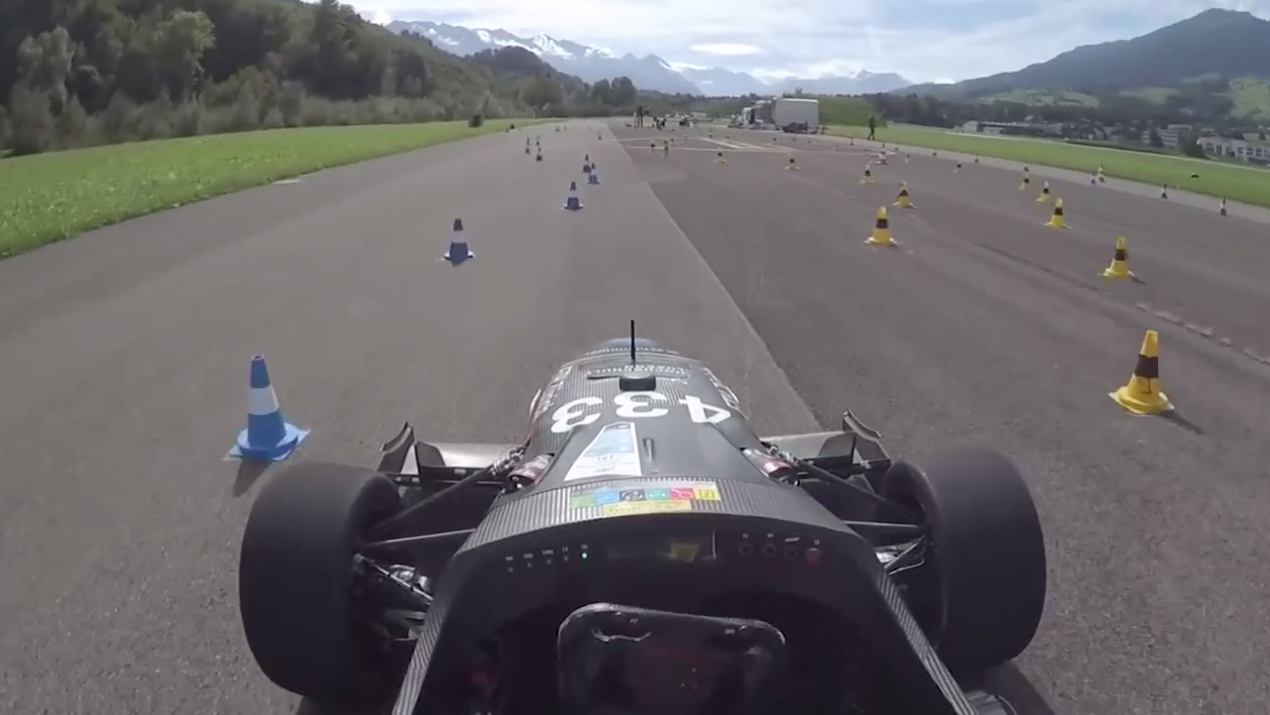lcone: (220, 348, 314, 466), (438, 212, 480, 267), (559, 178, 586, 212)
rcone: (1099, 325, 1176, 421), (1098, 234, 1145, 285), (863, 203, 898, 252), (1043, 196, 1072, 230), (892, 177, 917, 210)
